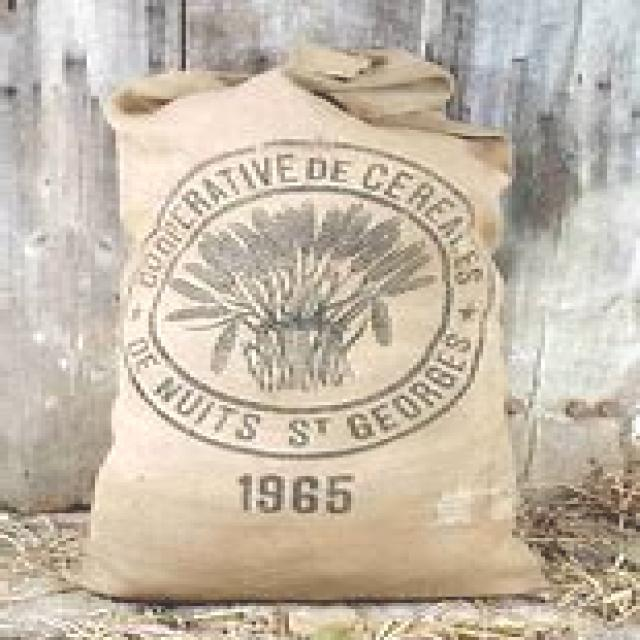gunny_bag: (71, 44, 549, 605)
